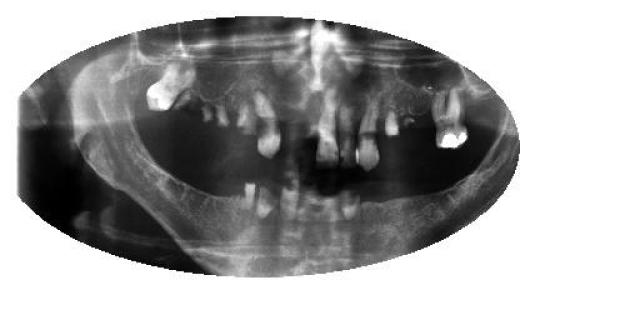Cavity: (255, 174, 280, 220), (339, 182, 361, 222), (280, 178, 299, 218), (236, 98, 255, 136), (242, 176, 256, 214), (385, 106, 399, 142), (214, 102, 230, 132), (200, 102, 215, 128)
Fillings: (432, 86, 468, 149)
